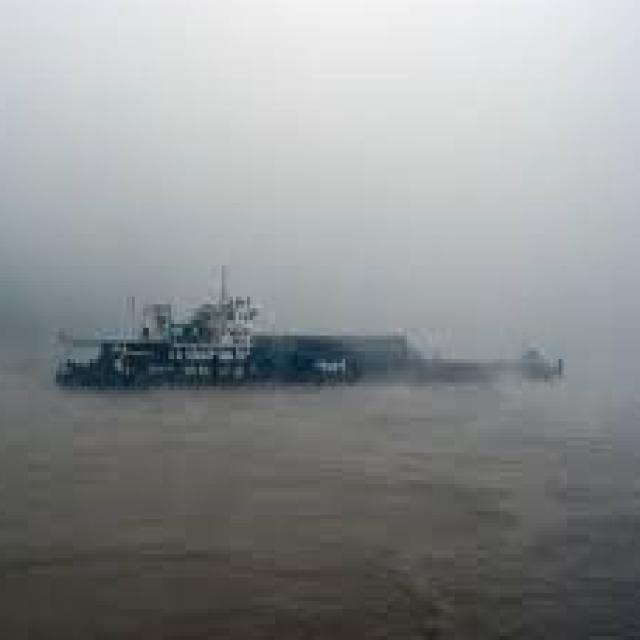fishing boat: (44, 266, 563, 404)
